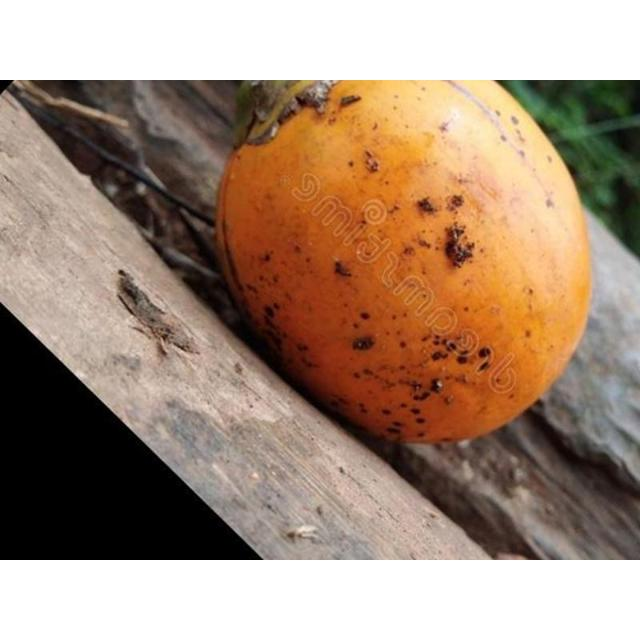good: (214, 80, 595, 446)
